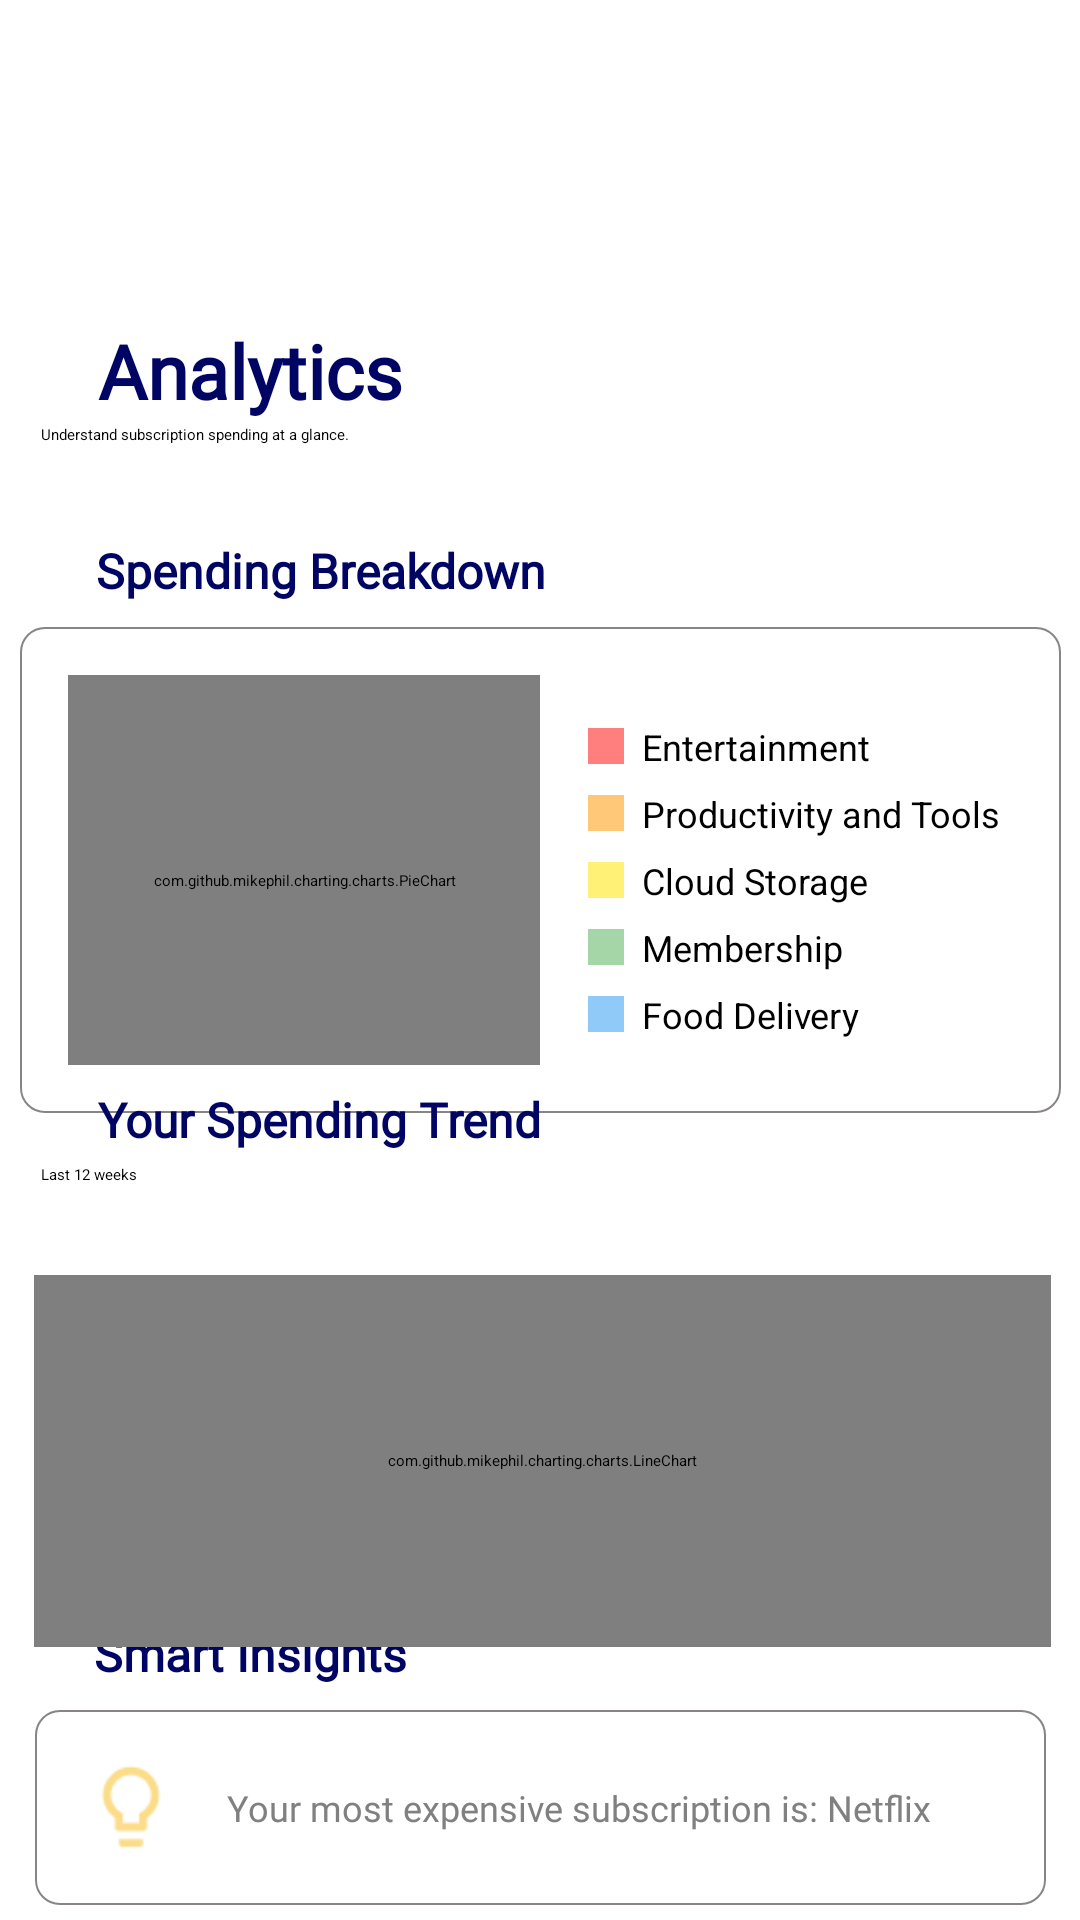

Icon click points for this 1080px×1920px phone screenshot, format [x,y]:
lightbulb: [131,1806]
